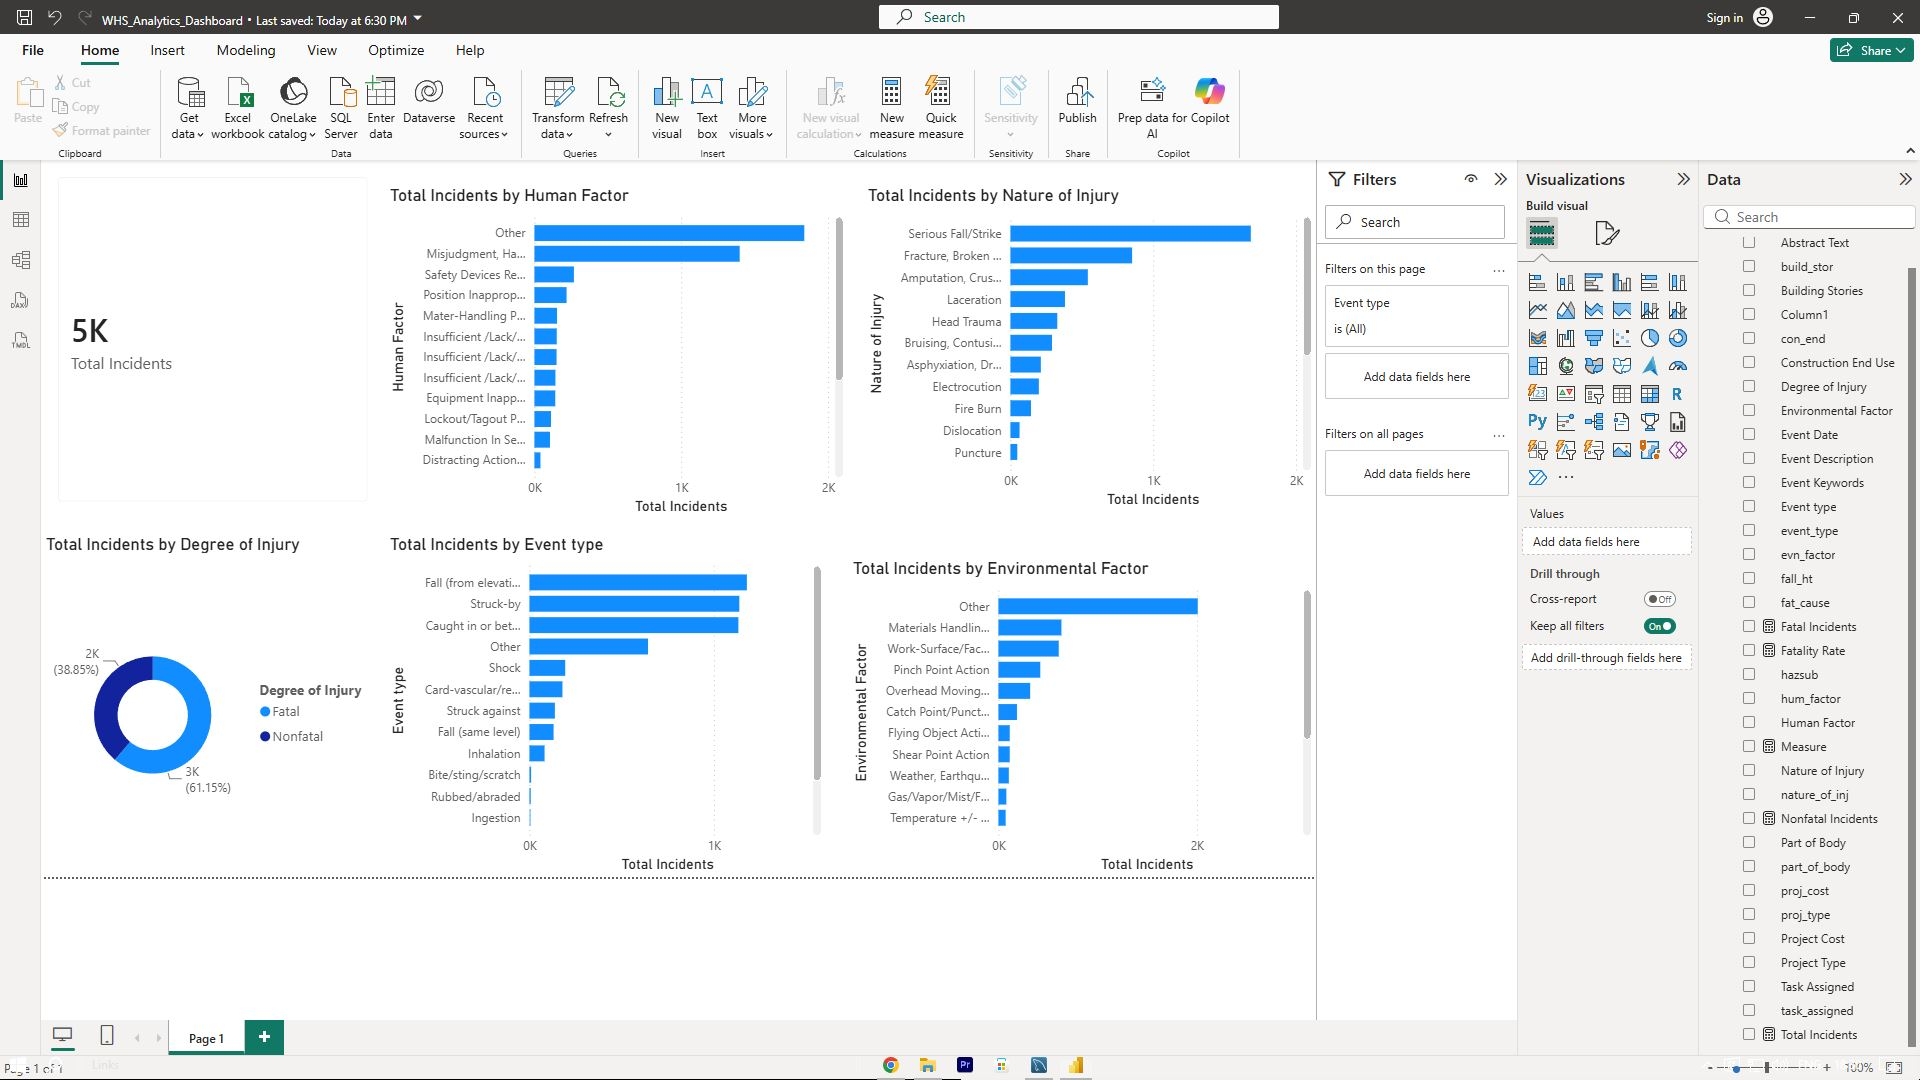

This screenshot's page, from the dashboard's own definition file:
{"tool":"powerbi","page":{"name":"Page 1","canvas":[1280,720],"ordinal":0},"visuals":[{"type":"clusteredBarChart","fields":{"Category":["OSHA HSE DATA_ALL ABSTRACTS 15-17_FINAL.Event type"],"Y":["OSHA HSE DATA_ALL ABSTRACTS 15-17_FINAL.Total Incidents"]},"box":[345.3,375.5,442.7,344.3],"z":0},{"type":"donutChart","fields":{"Category":["OSHA HSE DATA_ALL ABSTRACTS 15-17_FINAL.Degree of Injury"],"Y":["OSHA HSE DATA_ALL ABSTRACTS 15-17_FINAL.Total Incidents"]},"box":[0,375.5,330.3,344.3],"z":1000},{"type":"clusteredBarChart","fields":{"Category":["OSHA HSE DATA_ALL ABSTRACTS 15-17_FINAL.Human Factor"],"Y":["OSHA HSE DATA_ALL ABSTRACTS 15-17_FINAL.Total Incidents"]},"box":[345.3,25.1,464.8,335.3],"z":2000},{"type":"clusteredBarChart","fields":{"Category":["OSHA HSE DATA_ALL ABSTRACTS 15-17_FINAL.Environmental Factor"],"Y":["OSHA HSE DATA_ALL ABSTRACTS 15-17_FINAL.Total Incidents"]},"box":[810.2,399.6,469.8,320.3],"z":3000},{"type":"clusteredBarChart","fields":{"Category":["OSHA HSE DATA_ALL ABSTRACTS 15-17_FINAL.Nature of Injury"],"Y":["OSHA HSE DATA_ALL ABSTRACTS 15-17_FINAL.Total Incidents"]},"box":[825.2,25.1,454.8,328.3],"z":4000},{"type":"cardVisual","fields":{"Data":["OSHA HSE DATA_ALL ABSTRACTS 15-17_FINAL.Total Incidents"]},"box":[0,0,345.3,360.4],"z":5000}]}

Visuals, with their boxes on the page's 1280x720 design canvas (x1, y1, x2, y2). These are canvas units, not pixel positions in the 1920x1080 screenshot, which may show the page scaled, cropped or inside an application window:
clusteredBarChart - OSHA HSE DATA_ALL ABSTRACTS 15-17_FINAL.Event type x OSHA HSE DATA_ALL ABSTRACTS 15-17_FINAL.Total Incidents: BBox(345, 376, 788, 720)
donutChart - OSHA HSE DATA_ALL ABSTRACTS 15-17_FINAL.Degree of Injury x OSHA HSE DATA_ALL ABSTRACTS 15-17_FINAL.Total Incidents: BBox(0, 376, 330, 720)
clusteredBarChart - OSHA HSE DATA_ALL ABSTRACTS 15-17_FINAL.Human Factor x OSHA HSE DATA_ALL ABSTRACTS 15-17_FINAL.Total Incidents: BBox(345, 25, 810, 360)
clusteredBarChart - OSHA HSE DATA_ALL ABSTRACTS 15-17_FINAL.Environmental Factor x OSHA HSE DATA_ALL ABSTRACTS 15-17_FINAL.Total Incidents: BBox(810, 400, 1280, 720)
clusteredBarChart - OSHA HSE DATA_ALL ABSTRACTS 15-17_FINAL.Nature of Injury x OSHA HSE DATA_ALL ABSTRACTS 15-17_FINAL.Total Incidents: BBox(825, 25, 1280, 353)
cardVisual - OSHA HSE DATA_ALL ABSTRACTS 15-17_FINAL.Total Incidents: BBox(0, 0, 345, 360)
